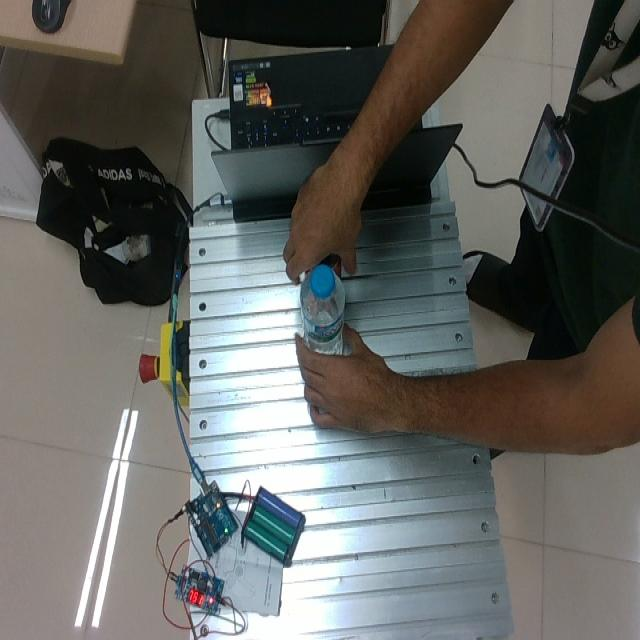lavie: (299, 261, 345, 356)
